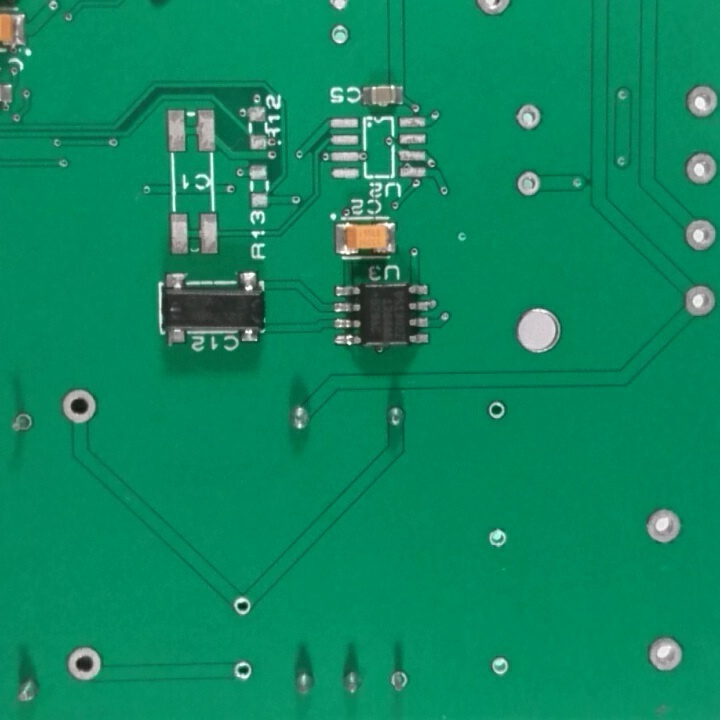F: (641, 506, 684, 550), (59, 387, 101, 429), (62, 644, 105, 685), (644, 632, 685, 673), (682, 80, 716, 121), (684, 148, 720, 186), (681, 216, 715, 256), (681, 283, 716, 318), (512, 100, 543, 132), (469, 1, 518, 21), (9, 409, 34, 440), (516, 168, 540, 199), (229, 658, 256, 683), (481, 399, 510, 421), (487, 655, 512, 680), (387, 670, 410, 697), (485, 527, 511, 550), (230, 595, 253, 619), (329, 22, 347, 48), (329, 1, 351, 12)
